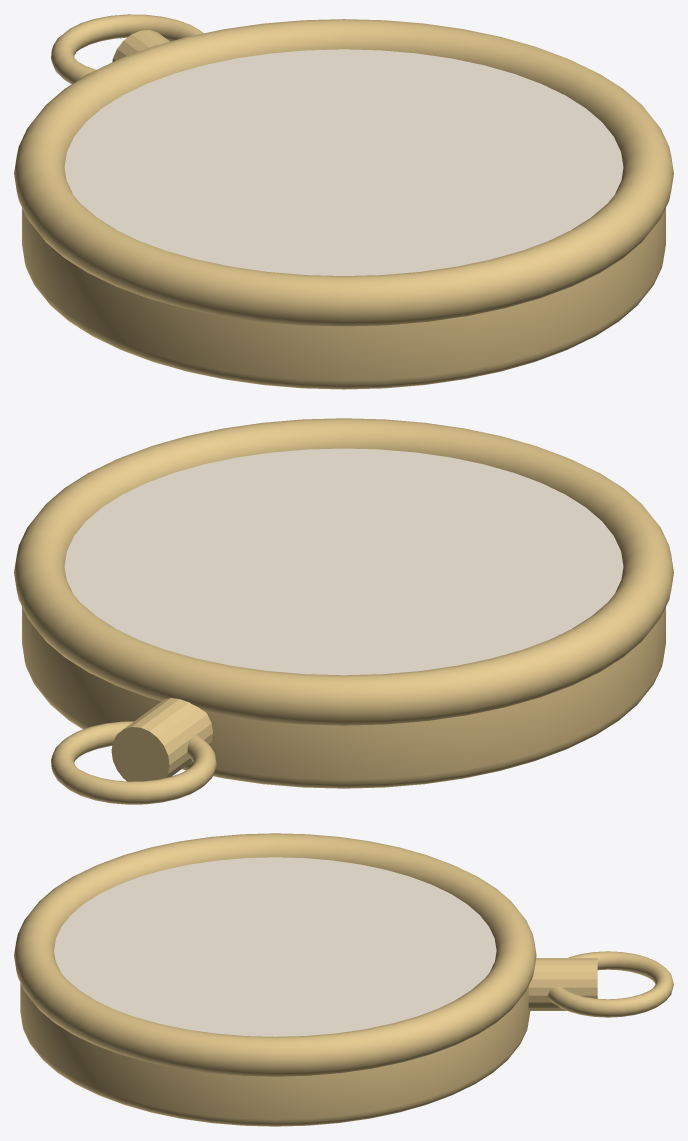
The model's file is pocket_watch.glb.
3 views of the same model, one above another, from view 1: azimuth 30°, elevation 25°; view 2: azimuth 150°, elevation 25°; view 3: azimuth 270°, elevation 25° (orthographic). The views are drawn at different scales.
Parts seen in each view (by area): view 1: PocketWatch; view 2: PocketWatch; view 3: PocketWatch.
Part boxes in pixels (x1,y1,x2,y2): PocketWatch: (14,14,673,389); PocketWatch: (14,418,673,804); PocketWatch: (14,833,673,1126).
Bounding box in the file's own units: 1.48 × 0.268 × 1.86.
